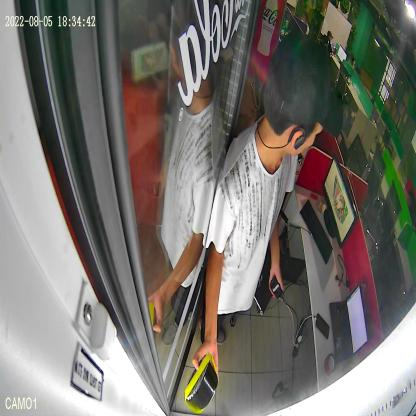yellow: (184, 351, 220, 415)
